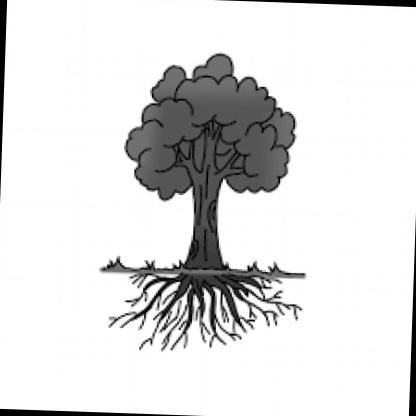branch_cut: (168, 118, 250, 182)
crown_cloud: (123, 48, 299, 206)
knot: (200, 198, 223, 234), (185, 240, 200, 260)
root_under: (104, 254, 304, 359)
trunk_bark: (186, 196, 226, 248)
